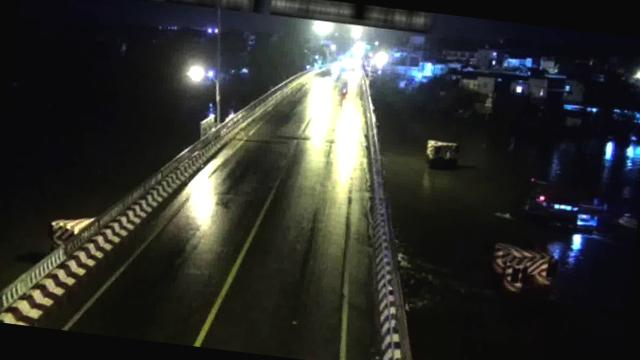Bike: (338, 80, 348, 96)
